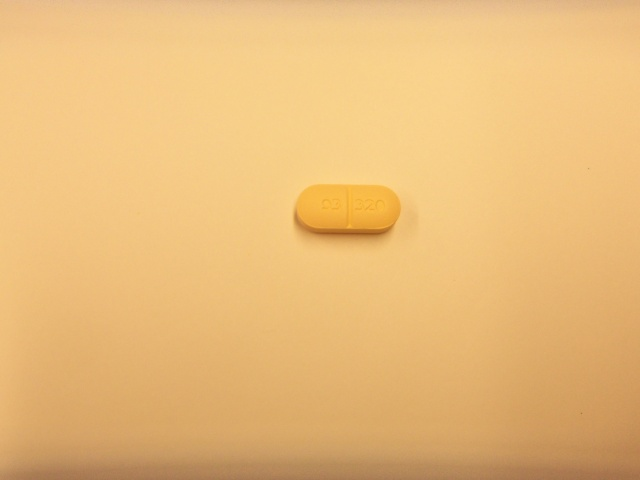0: (374, 198, 385, 214), (320, 197, 332, 210)
2: (365, 197, 374, 212)
3: (354, 197, 365, 211), (332, 197, 341, 212)
|: (343, 184, 353, 230)
